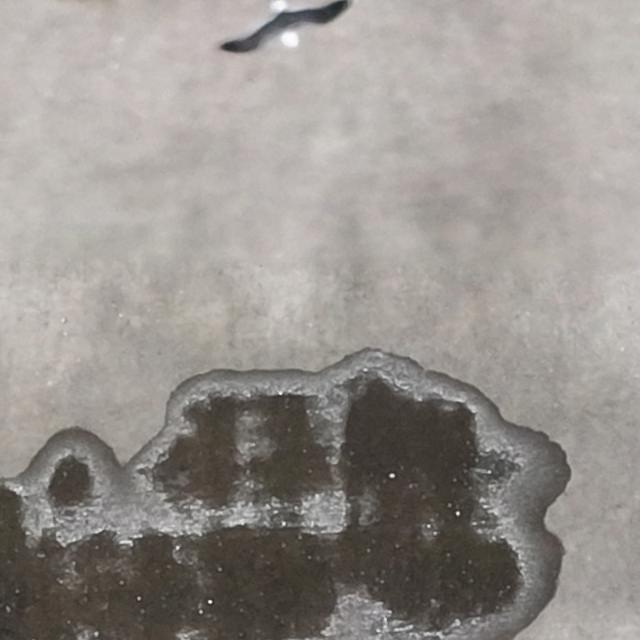F: (229, 1, 343, 51)
